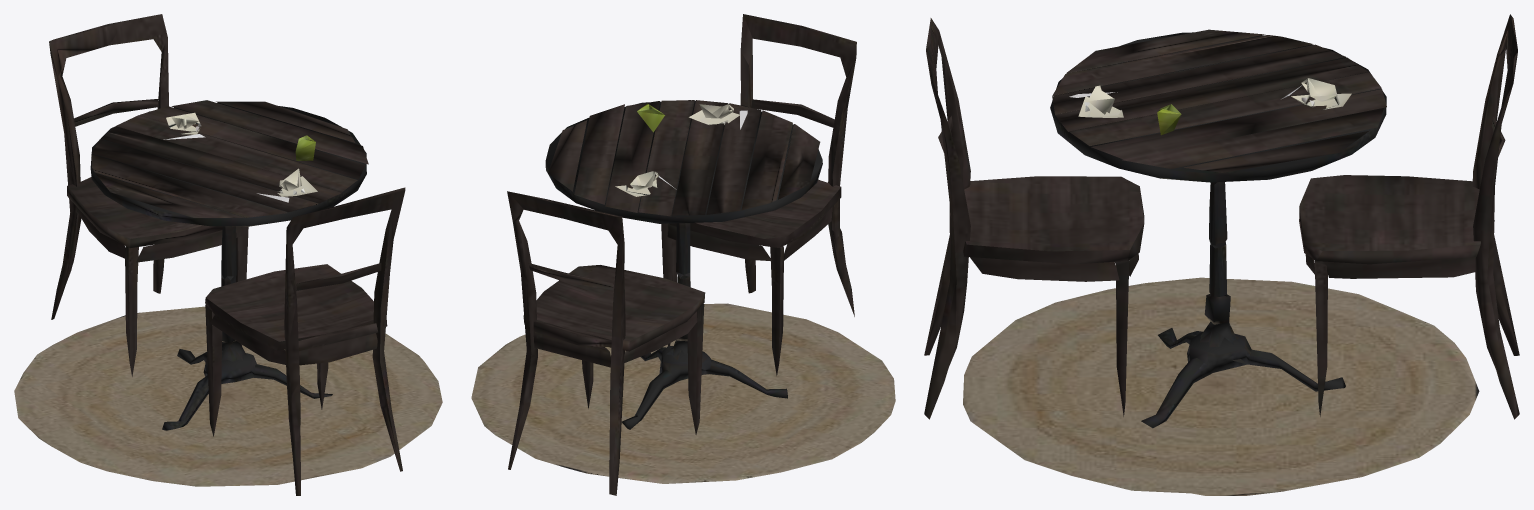
The model's file is DiningTable0007.obj.
3 views of the same model, side by side, from view 1: azimuth 30°, elevation 25°; view 2: azimuth 150°, elevation 25°; view 3: azimuth 270°, elevation 25° (orthographic). The views are drawn at different scales.
Bounding box in the file's own units: 1.22 × 0.891 × 1.41.
Materials: 1 (1 with a texture image).
